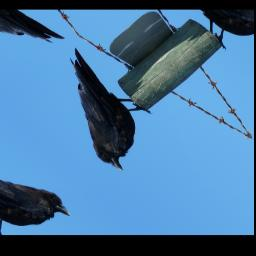Crow: (23, 45, 173, 177)
